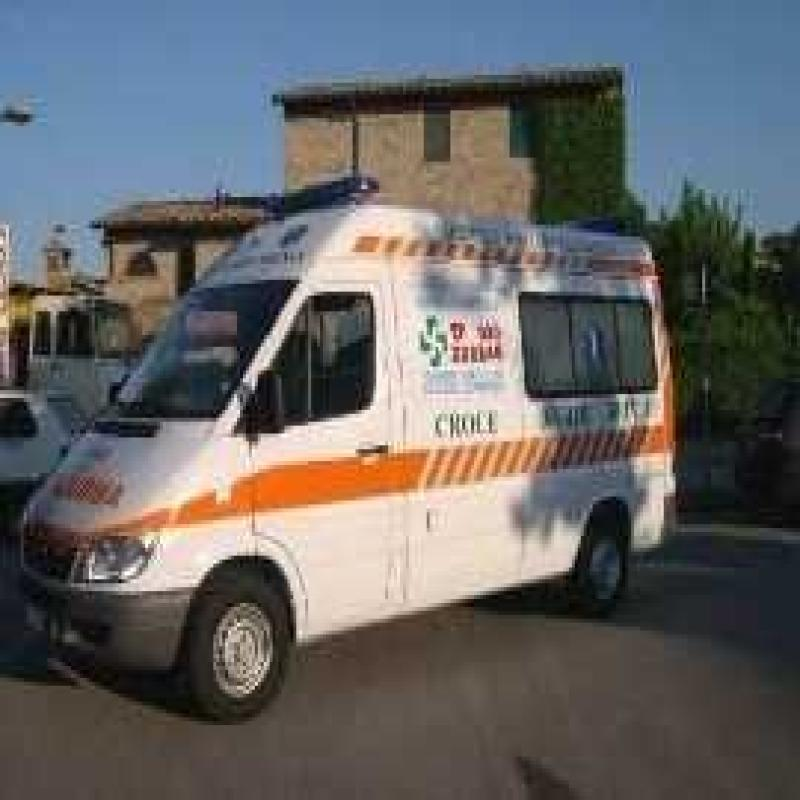AmbulanceSiren: (254, 166, 390, 224)
